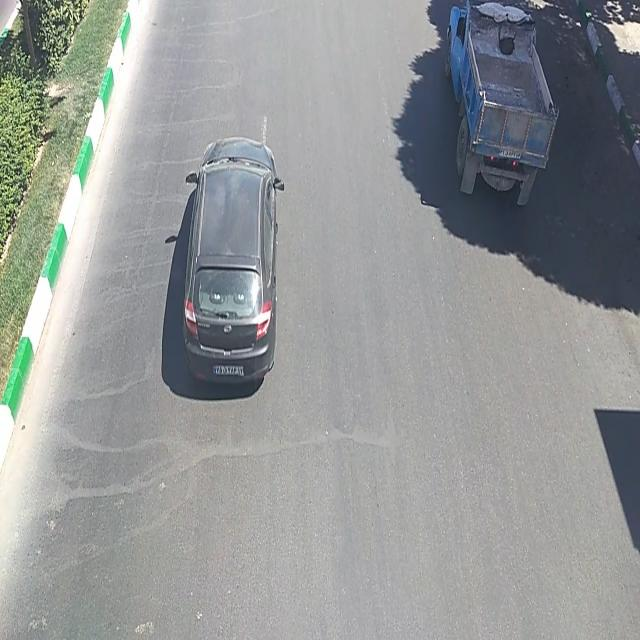car: (182, 134, 286, 390), (446, 8, 562, 216)
